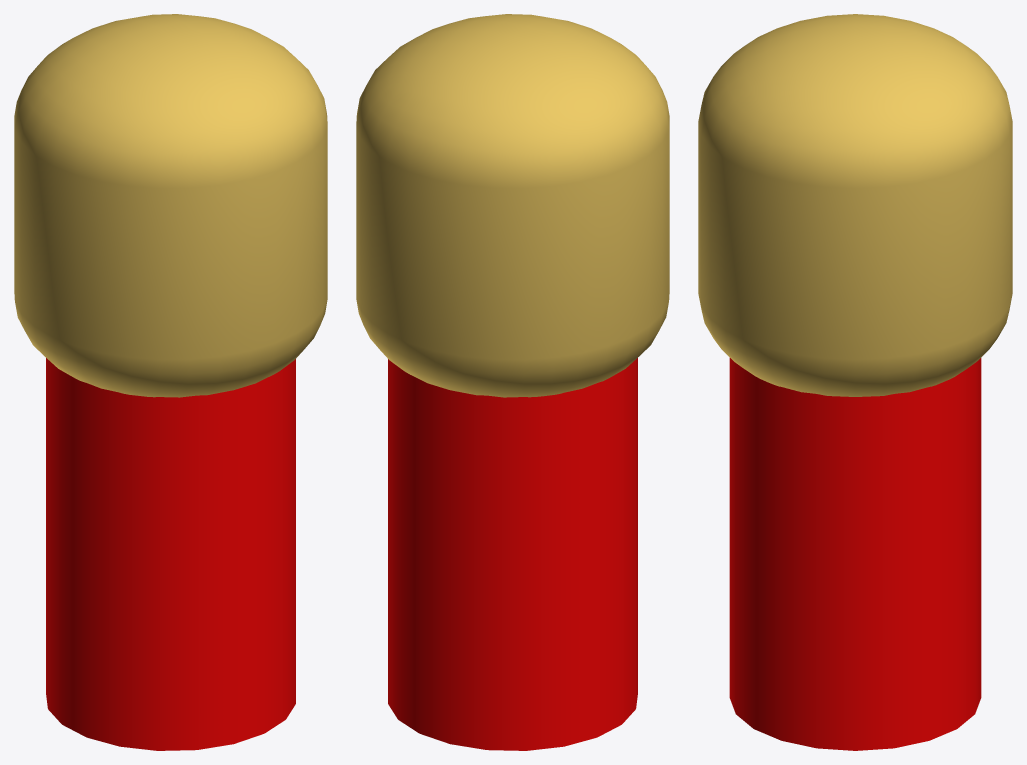
File: Light.fbx
The picture shows the model from 3 angles, left to right: view 1: azimuth 30°, elevation 25°; view 2: azimuth 150°, elevation 25°; view 3: azimuth 270°, elevation 25°; orthographic projection.
Parts seen in each view (by area): view 1: Bulb, Light__3_; view 2: Bulb, Light__3_; view 3: Bulb, Light__3_.
Boxes of the visible parts, box(x1,y1,x2,y2) form: Bulb: box(14, 14, 327, 397); Light__3_: box(46, 358, 295, 750); Bulb: box(356, 14, 669, 397); Light__3_: box(388, 358, 637, 750); Bulb: box(698, 14, 1012, 396); Light__3_: box(729, 358, 981, 750).
Size of the model in its own units: 62.5 by 145 by 62.5.
